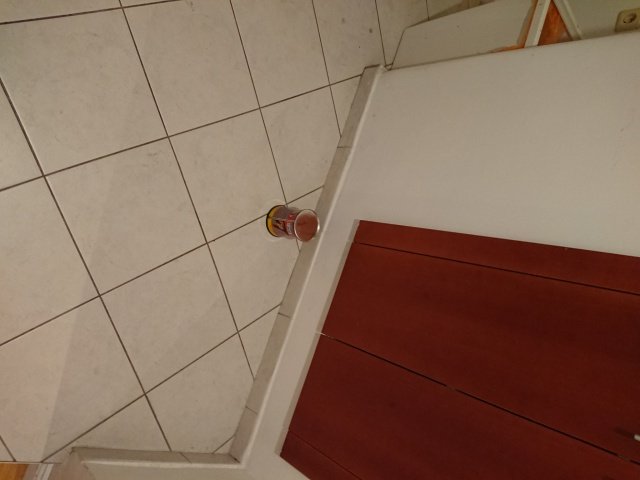Nescafe Classic 225g: (263, 202, 322, 245)
